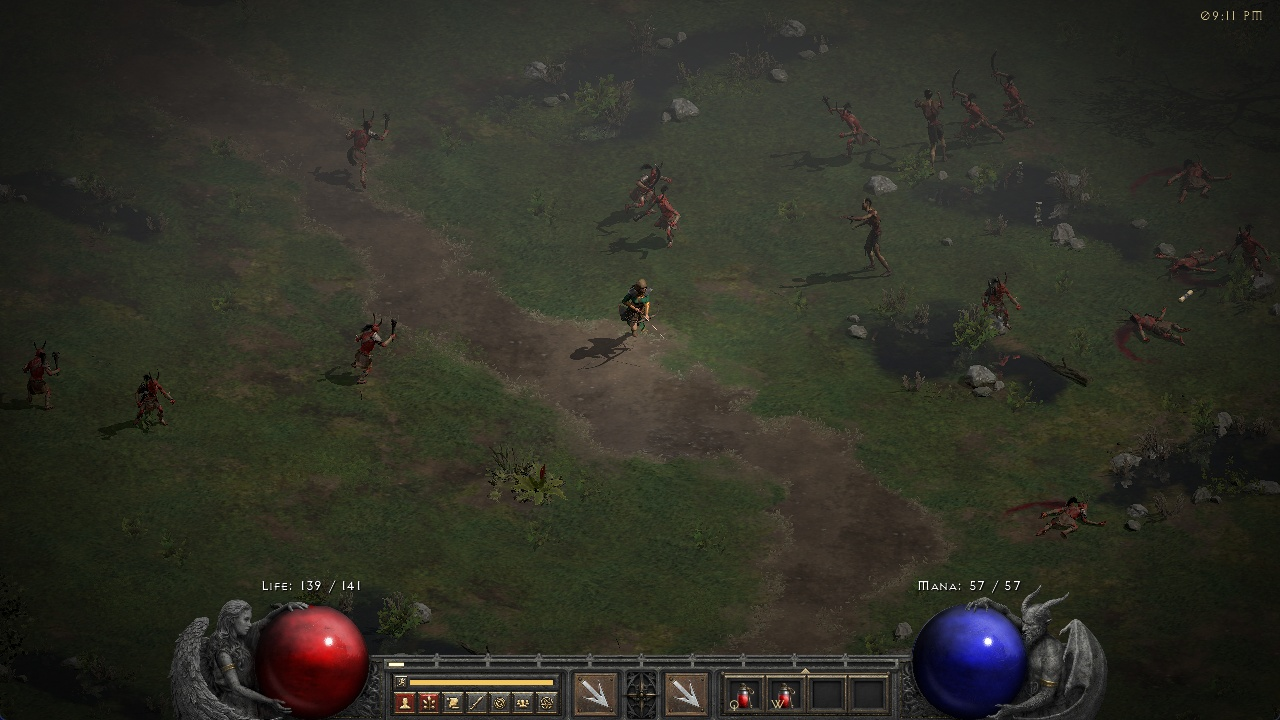fallen: (346, 110, 397, 182), (821, 96, 875, 155), (132, 368, 176, 429), (352, 311, 395, 372), (973, 271, 1018, 329), (1228, 226, 1276, 279), (25, 340, 61, 404), (994, 58, 1030, 118), (948, 79, 990, 130), (652, 189, 693, 238), (630, 162, 669, 196)
